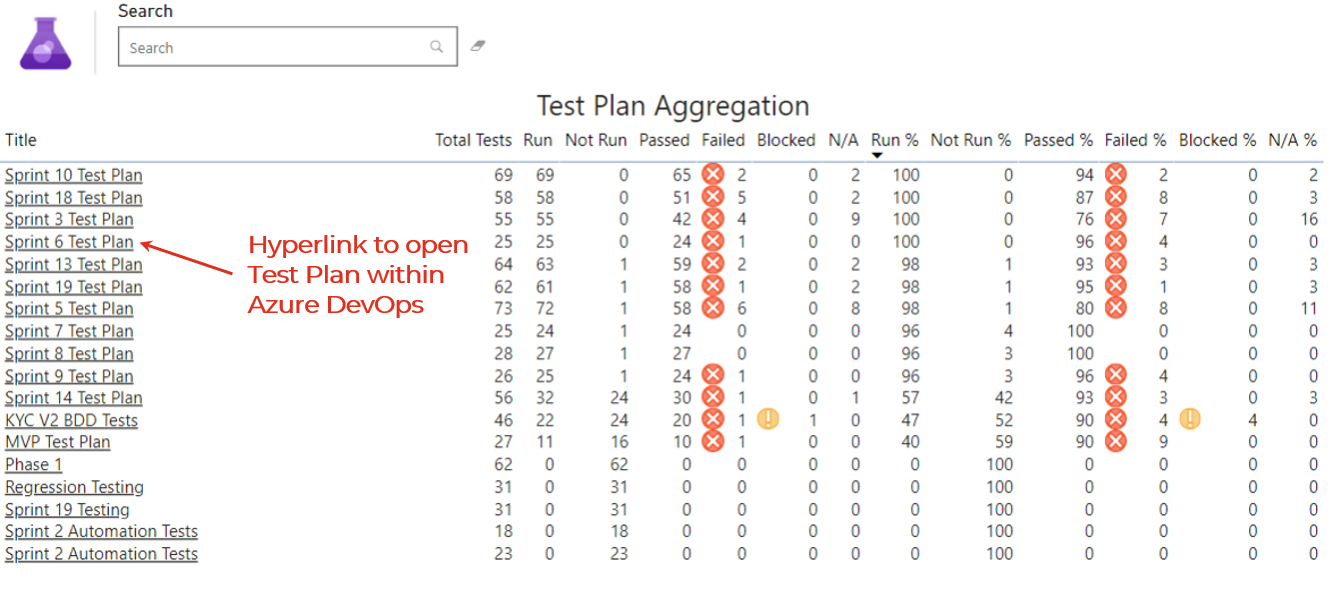

Layout of this report page (visuals, bound fields, positions):
{"tool":"powerbi","page":{"name":"Test Plan Aggregation","canvas":[1280,720],"ordinal":0},"visuals":[{"type":"tableEx","title":"Test Plan Aggregation","fields":{"Values":["Title.Title","Title.TotalCount","Title.RunCount","Title.NotRunCount","Title.PassedCount","Title.FailedCount","Test Plan Rollup.BlockedCount","Test Plan Rollup.NotApplicableCount","Sum(Title.RunPercentage)","Sum(Title.NotRunPercentage)","Sum(Title.PassedPercentage)","Sum(Title.FailedPercentage)"]},"box":[0,80,1280,640],"z":0},{"type":"basicShape","box":[80,0,32,80],"z":1000},{"type":"image","box":[0,0,96,80],"z":2000},{"type":"textFilter25A4896A83E0487089E2B90C9AE57C8A","fields":{"field":["Test Plan Rollup.Title"]},"box":[112,0,368,80],"z":3000}]}

Visuals, with their boxes on the page's 1280x720 design canvas (x1, y1, x2, y2). These are canvas units, not pixel positions in the 1341x606 screenshot, which may show the page scaled, cropped or inside an application window:
"Test Plan Aggregation" tableEx: [left=0, top=80, right=1280, bottom=720]
basicShape: [left=80, top=0, right=112, bottom=80]
image: [left=0, top=0, right=96, bottom=80]
textFilter25A4896A83E0487089E2B90C9AE57C8A - Test Plan Rollup.Title: [left=112, top=0, right=480, bottom=80]
